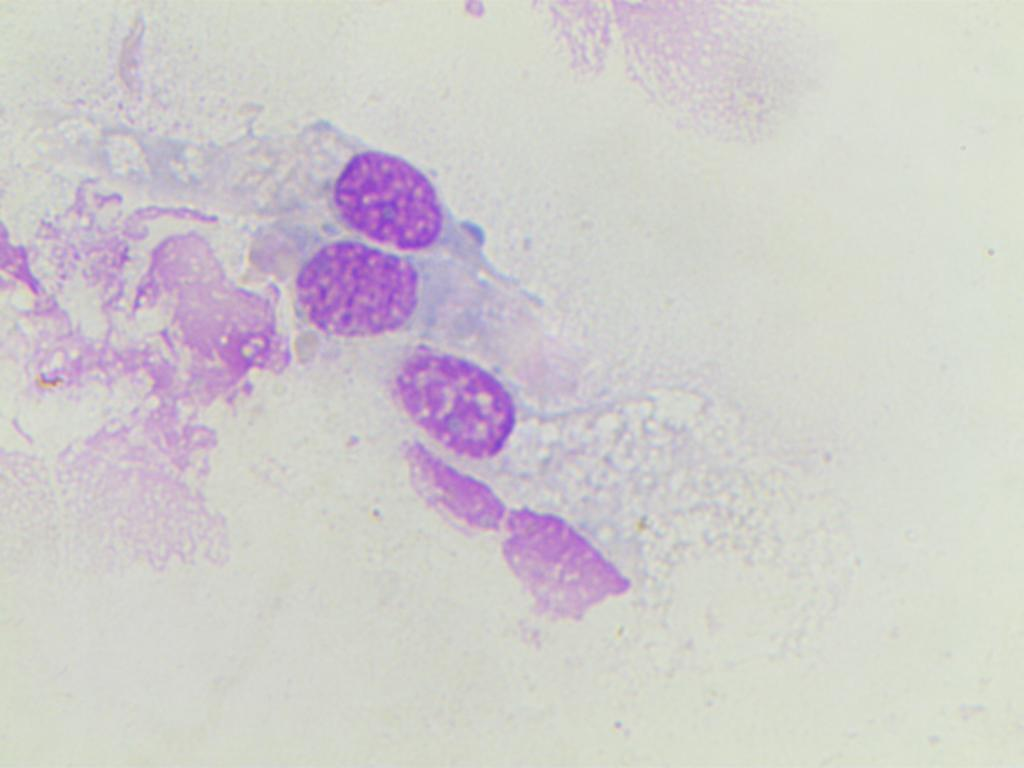epithelial: (391, 348, 516, 466), (327, 142, 449, 252), (296, 241, 414, 336)
